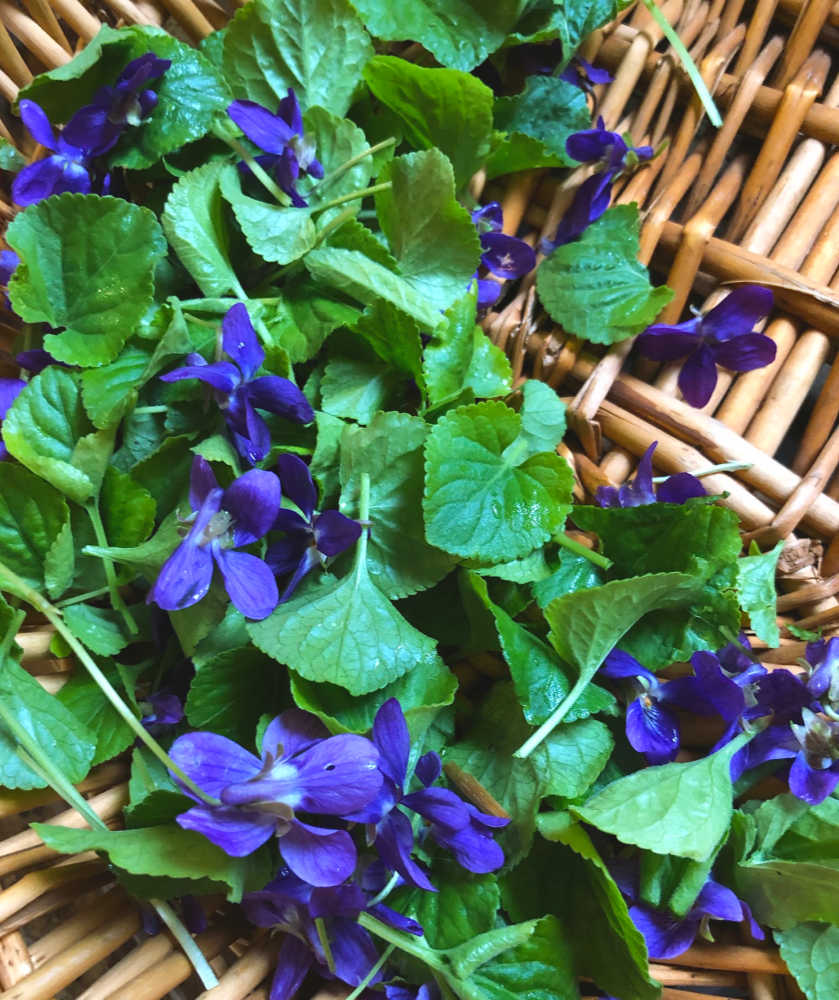violet: (175, 711, 386, 888), (360, 697, 510, 885), (152, 338, 323, 455), (220, 885, 385, 1000), (602, 646, 752, 767), (159, 472, 286, 611), (634, 288, 781, 404), (14, 88, 131, 209), (559, 120, 664, 251), (222, 88, 341, 198)
